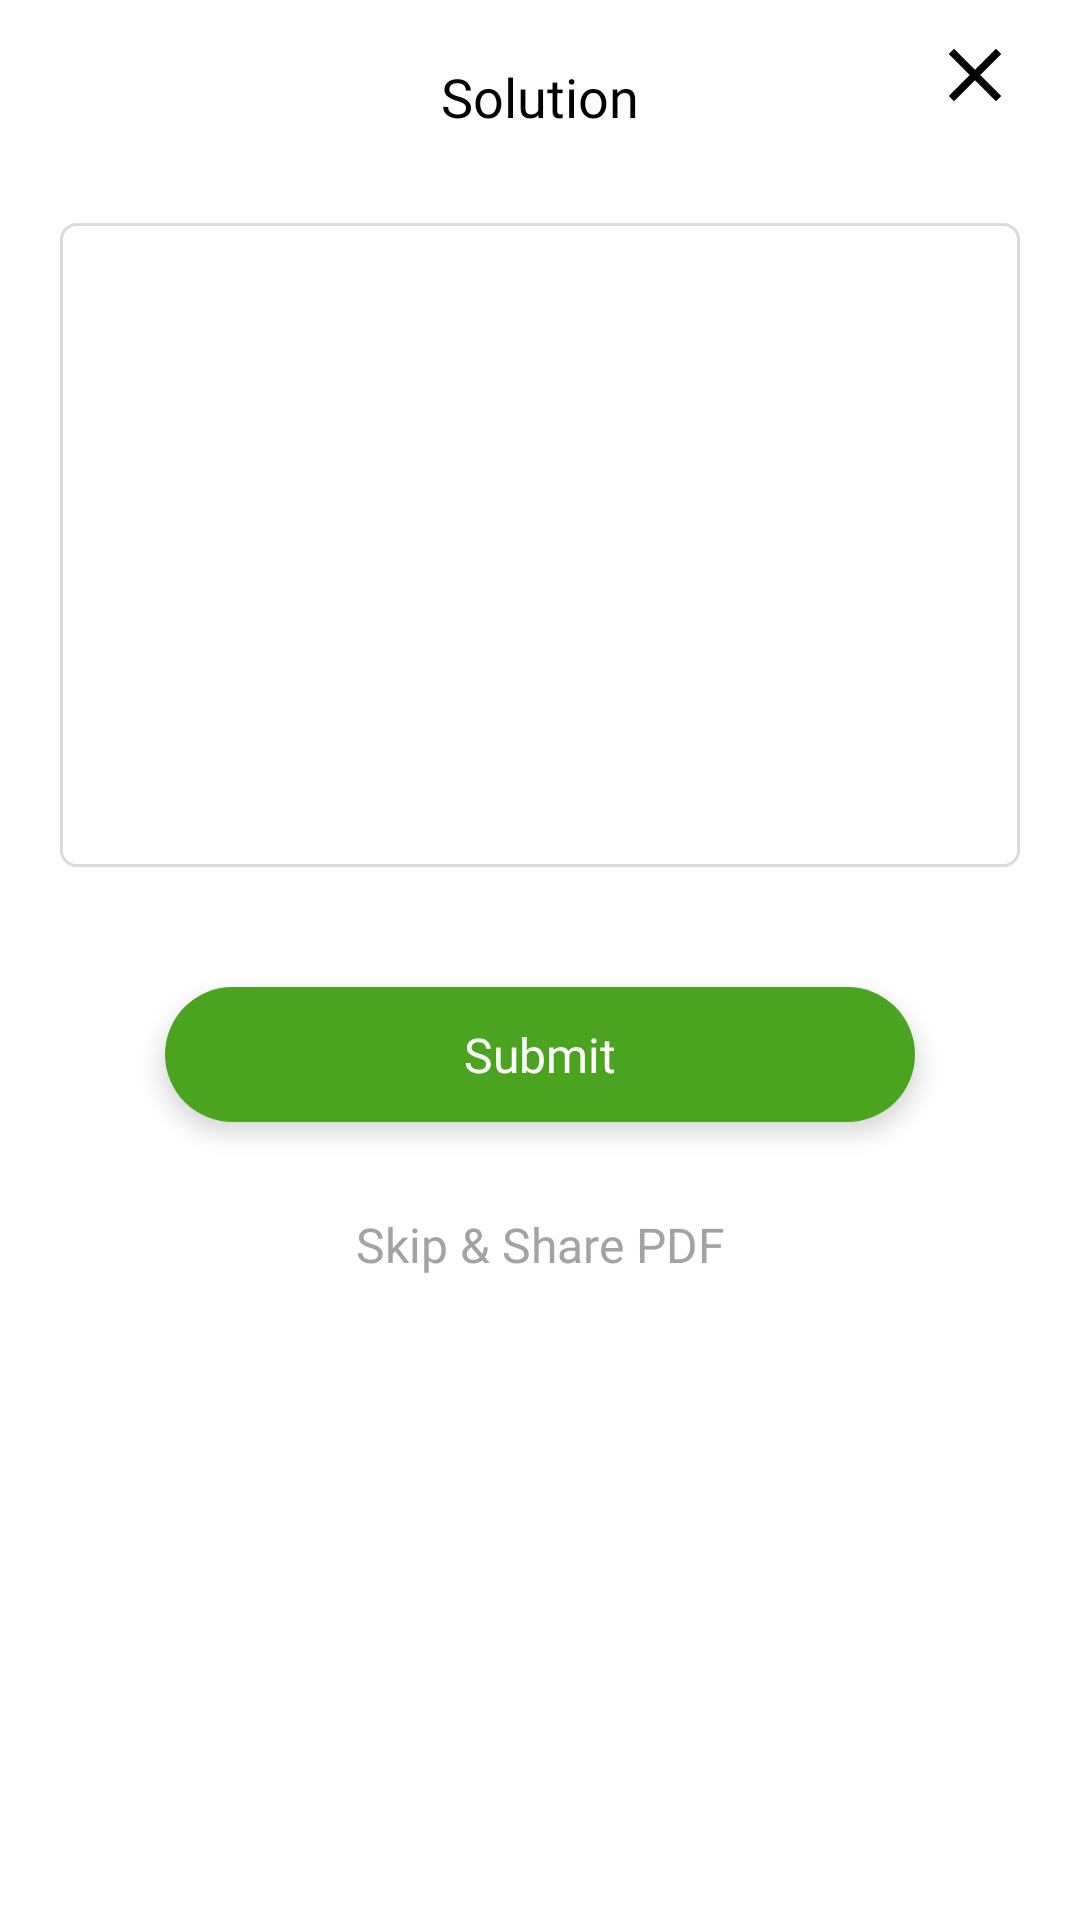

Screen size 1080×1920. Icon name, then its box in pixels as BBox(x1, y1, x2, y2):
cross: BBox(949, 49, 1001, 101)
